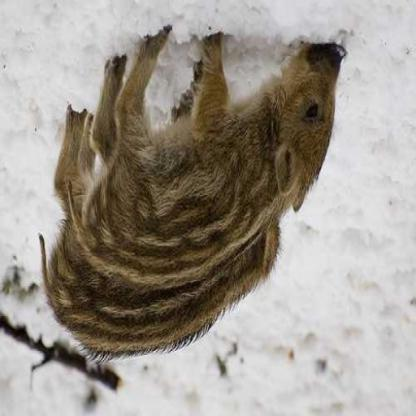boar: (81, 33, 350, 273), (48, 113, 290, 370)
